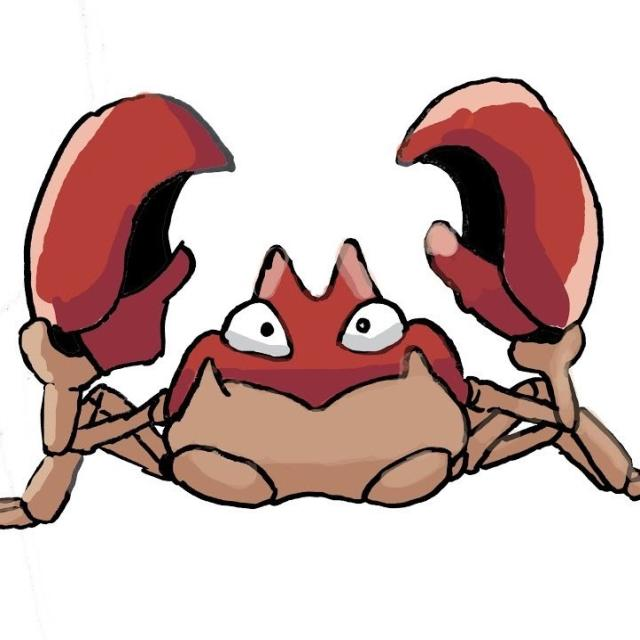Krabby: (0, 74, 640, 542)
